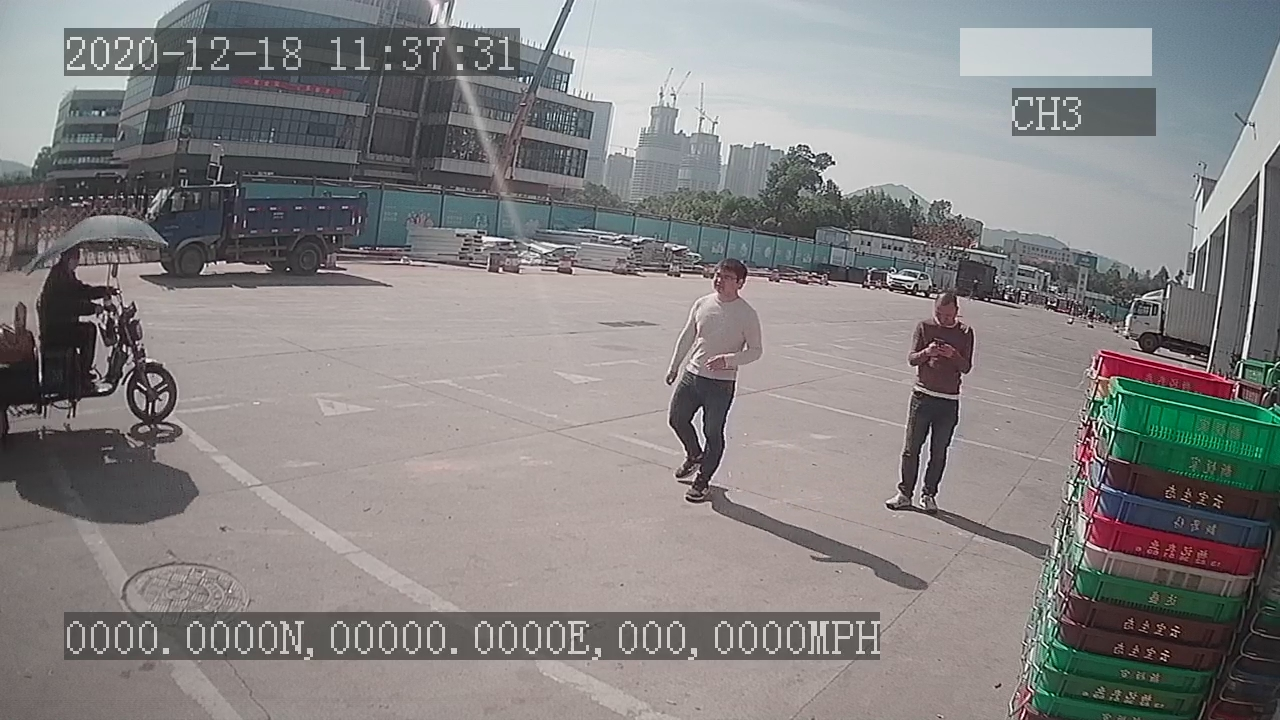person: (663, 256, 762, 501), (886, 286, 980, 521)
